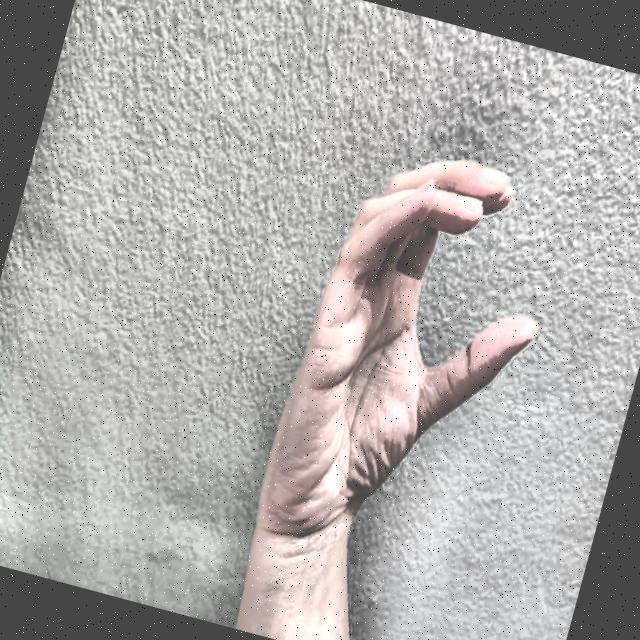A: (231, 104, 603, 598)
